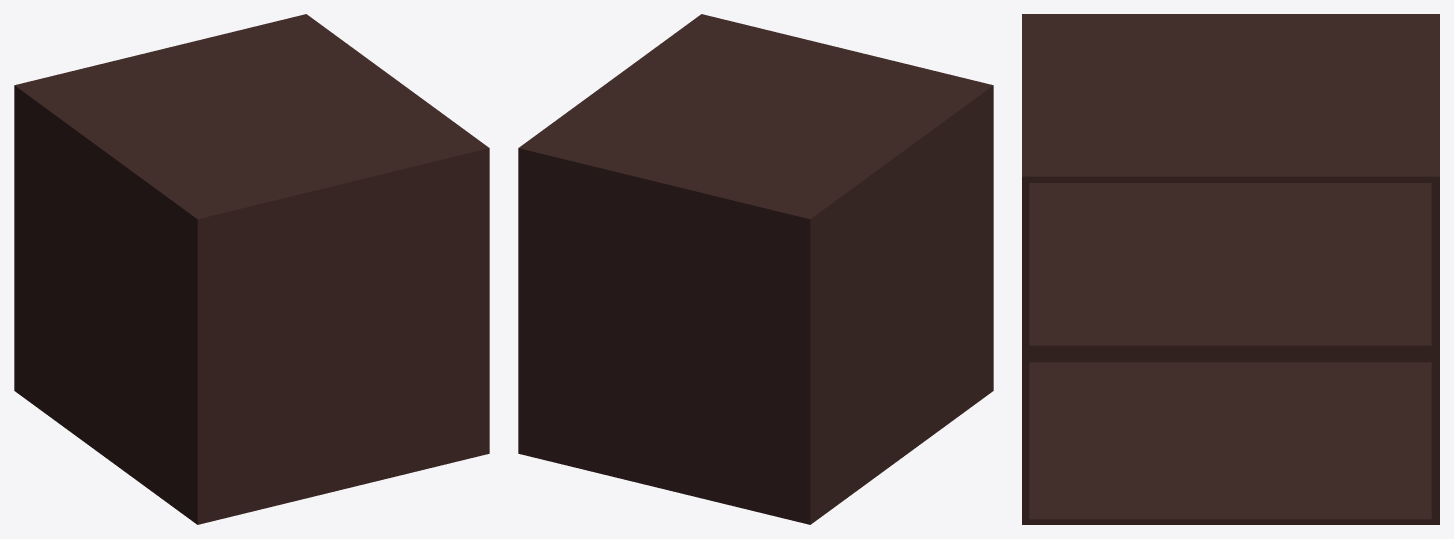
The model's file is KitchenCabinetSingle.fbx.
The picture shows the model from 3 angles, left to right: view 1: azimuth 30°, elevation 25°; view 2: azimuth 150°, elevation 25°; view 3: azimuth 270°, elevation 25°; orthographic projection. The views are drawn at different scales.
Visible parts, largest first — view 1: KitchenCabinetSingle; view 2: KitchenCabinetSingle; view 3: KitchenCabinetSingle.
Boxes of the visible parts, x1=… form: KitchenCabinetSingle: x1=14, y1=14, x2=489, y2=524; KitchenCabinetSingle: x1=518, y1=14, x2=993, y2=524; KitchenCabinetSingle: x1=1022, y1=14, x2=1439, y2=524.
Bounding box in the file's own units: 600 × 600 × 652.
